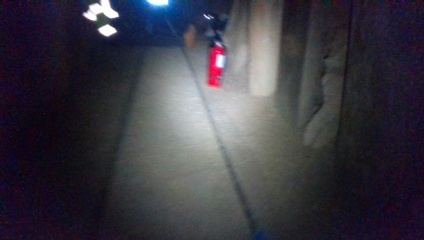fire_extinguisher: (207, 36, 228, 87)
manikin: (82, 1, 198, 48)
